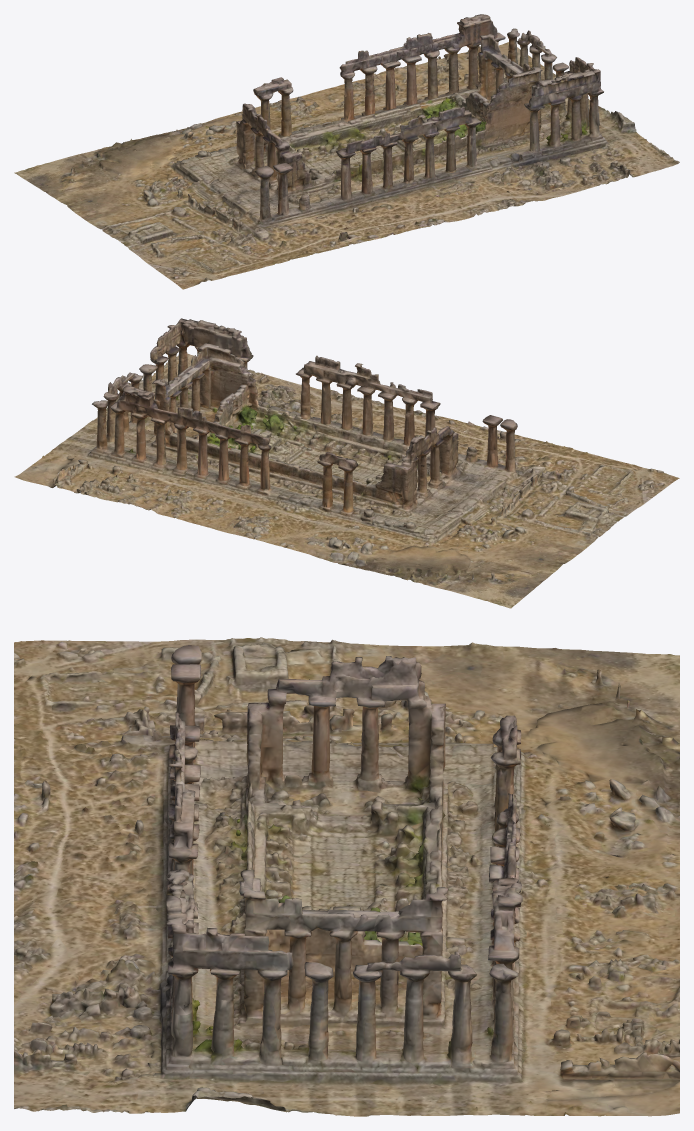
3 views of the same model, one above another, from view 1: azimuth 30°, elevation 25°; view 2: azimuth 150°, elevation 25°; view 3: azimuth 270°, elevation 25° (orthographic). The views are drawn at different scales.
Parts seen in each view (by area): view 1: LBY_001_M3_TempleOfZeus; view 2: LBY_001_M3_TempleOfZeus; view 3: LBY_001_M3_TempleOfZeus.
Boxes of the visible parts, x1,y1,x2,y2 form: LBY_001_M3_TempleOfZeus: (14,14,679,289); LBY_001_M3_TempleOfZeus: (14,318,679,608); LBY_001_M3_TempleOfZeus: (14,637,679,1116).
Size of the model in its own units: 100 by 16.69 by 58.88.
Materials: 1 (1 with a texture image).
